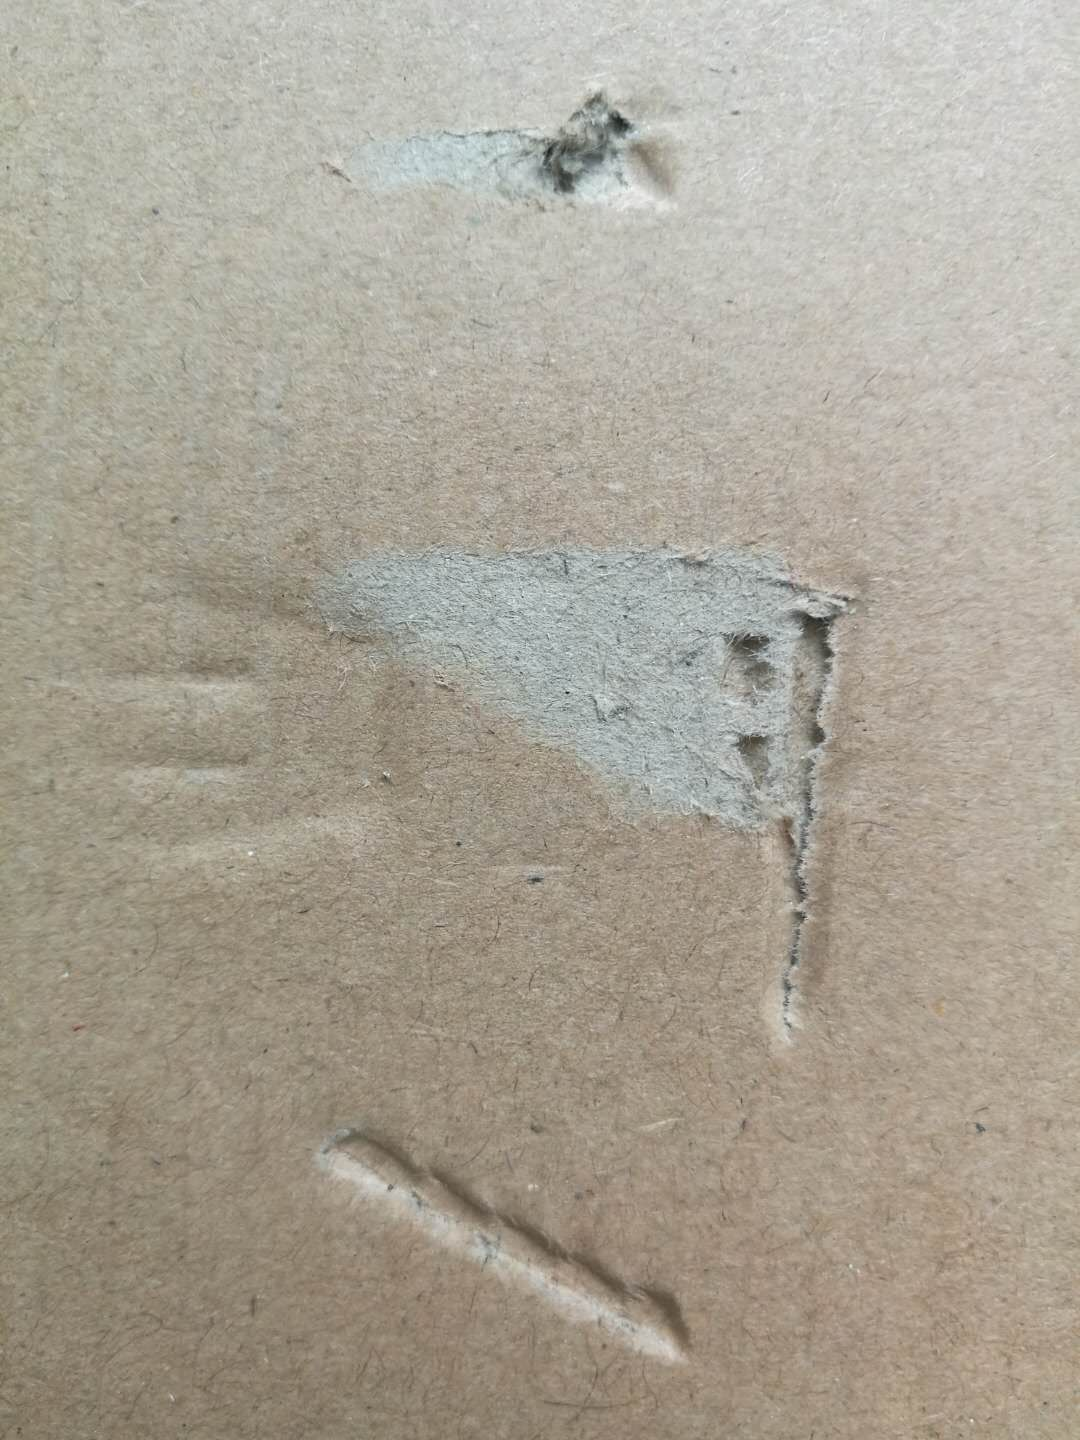defect: (51, 516, 908, 1106), (299, 1098, 732, 1373), (297, 62, 720, 228)
